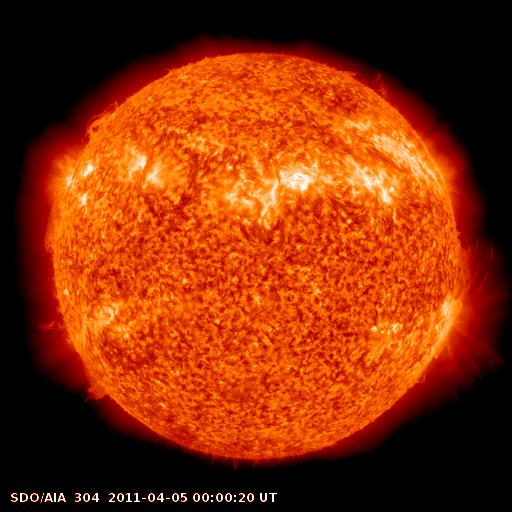prominence: (323, 52, 392, 104), (455, 232, 505, 302), (79, 93, 132, 145), (34, 199, 76, 255), (74, 370, 126, 411), (29, 295, 77, 336)
